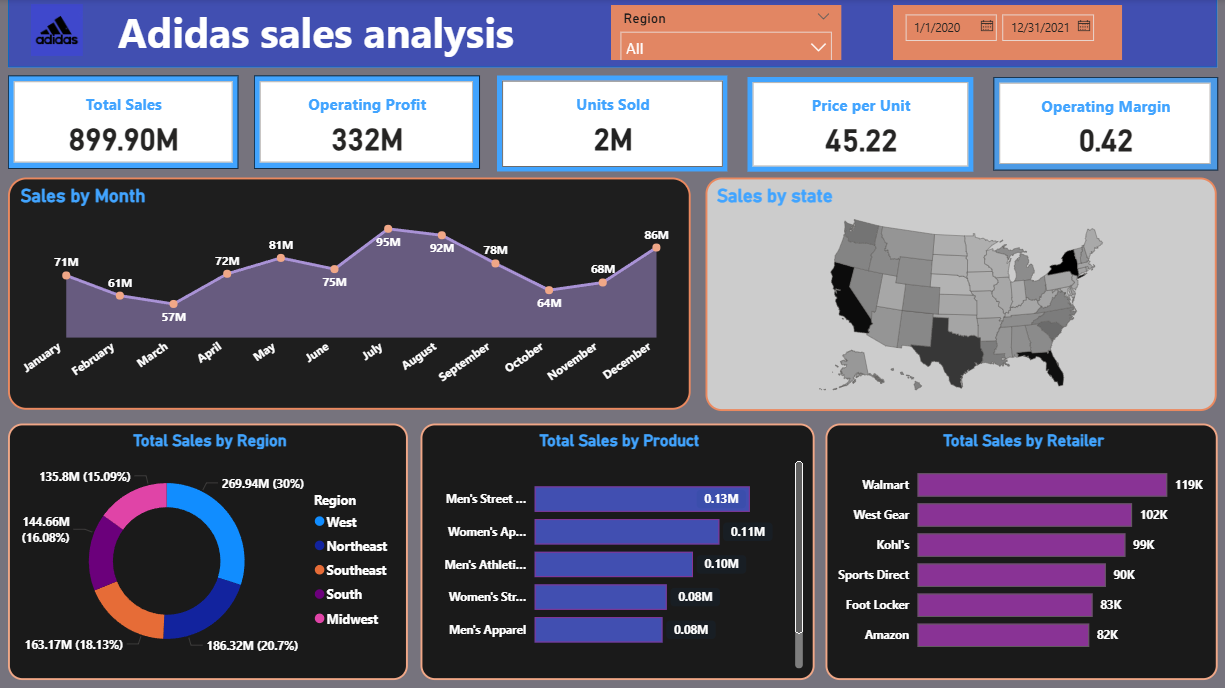

The page's visual inventory and layout, read from the dashboard file:
{"tool":"powerbi","page":{"name":"Page 1","canvas":[1280,720],"ordinal":0},"visuals":[{"type":"lineChart","title":"Sales by Month","fields":{"Y":["Sum(Data Sales Adidas.Total Sales)"],"Category":["Data Sales Adidas.Invoice Date.Variation.Date Hierarchy.Month"]},"box":[9.5,186.1,711,241.8],"z":0},{"type":"donutChart","title":"Total Sales by Region","fields":{"Category":["Data Sales Adidas.Region"],"Y":["Sum(Data Sales Adidas.Total Sales)"]},"box":[9.5,442.2,416.7,267.2],"z":1000},{"type":"clusteredBarChart","title":"Total Sales by Product","fields":{"Category":["Data Sales Adidas.Product"],"Y":["Avg(Data Sales Adidas.Total Sales)"]},"box":[439,442.2,410.4,267.2],"z":2000},{"type":"clusteredBarChart","title":" Total Sales by Retailer","fields":{"Category":["Data Sales Adidas.Retailer"],"Y":["Avg(Data Sales Adidas.Total Sales)"]},"box":[860.5,442.2,408.8,267.2],"z":3000},{"type":"cardVisual","fields":{"Data":["Sum(Data Sales Adidas.Operating Profit)"]},"box":[265.6,79.5,235.4,97],"z":4000},{"type":"cardVisual","fields":{"Data":["Avg(Data Sales Adidas.Price per Unit)"]},"box":[779.4,81.1,235.4,98.6],"z":5000},{"type":"cardVisual","fields":{"Data":["Avg(Data Sales Adidas.Operating Margin)"]},"box":[1035.5,81.1,233.8,97],"z":6000},{"type":"shape","box":[9.5,0,1259.8,71.6],"z":7000},{"type":"textbox","box":[71.9,0,498.6,71.9],"z":8000},{"type":"cardVisual","fields":{"Data":["Sum(Data Sales Adidas.Total Sales)"]},"box":[9.5,79.5,240.2,97],"z":9000},{"type":"slicer","fields":{"Values":["Data Sales Adidas.Region"]},"box":[637.8,6.4,240.2,57.3],"z":10000},{"type":"cardVisual","fields":{"Data":["Sum(Data Sales Adidas.Units Sold)"]},"box":[518.5,79.5,240.2,100.2],"z":11000},{"type":"slicer","fields":{"Values":["Data Sales Adidas.Invoice Date"]},"box":[932.1,6.4,238.6,57.3],"z":12000},{"type":"shapeMap","title":"Sales by state","fields":{"Category":["Data Sales Adidas.State"],"Value":["Sum(Data Sales Adidas.Total Sales)"]},"box":[736.5,186.1,532.9,243.4],"z":13000},{"type":"image","box":[0,0,120.4,64.1],"z":14000}]}

Visuals, with their boxes in screenshot pixels (x1, y1, x2, y2), scaled from the page's 1280x720 canvas onto the 1225x688 screenshot:
"Sales by Month" lineChart: bbox=[9, 178, 690, 409]
"Total Sales by Region" donutChart: bbox=[9, 423, 408, 678]
"Total Sales by Product" clusteredBarChart: bbox=[420, 423, 813, 678]
" Total Sales by Retailer" clusteredBarChart: bbox=[824, 423, 1215, 678]
cardVisual - Sum(Data Sales Adidas.Operating Profit): bbox=[254, 76, 479, 169]
cardVisual - Avg(Data Sales Adidas.Price per Unit): bbox=[746, 77, 971, 172]
cardVisual - Avg(Data Sales Adidas.Operating Margin): bbox=[991, 77, 1215, 170]
shape: bbox=[9, 0, 1215, 68]
textbox: bbox=[69, 0, 546, 69]
cardVisual - Sum(Data Sales Adidas.Total Sales): bbox=[9, 76, 239, 169]
slicer - Data Sales Adidas.Region: bbox=[610, 6, 840, 61]
cardVisual - Sum(Data Sales Adidas.Units Sold): bbox=[496, 76, 726, 172]
slicer - Data Sales Adidas.Invoice Date: bbox=[892, 6, 1120, 61]
"Sales by state" shapeMap: bbox=[705, 178, 1215, 410]
image: bbox=[0, 0, 115, 61]
